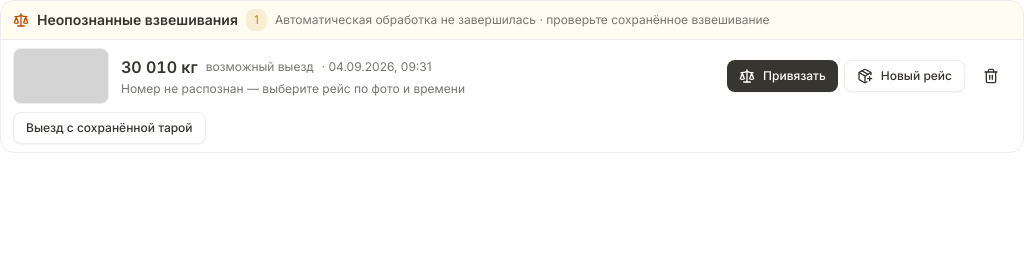
it: UnassignedWeighingsPanel › requires choosing a trip when several trucks could have produced the exit weight
The width and height of the screenshot is (1024, 258).
Click the button "Привязать": (782, 76) 727,60 -> 838,92
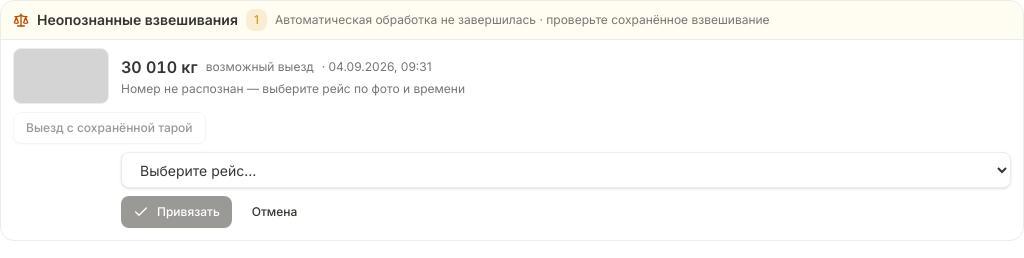
Check: the dropdown named "Рейс для привязки" shows "Выберите рейс…", box 121,152 -> 1011,188
Check: the button "Привязать" is disabled, box 121,196 -> 232,228
